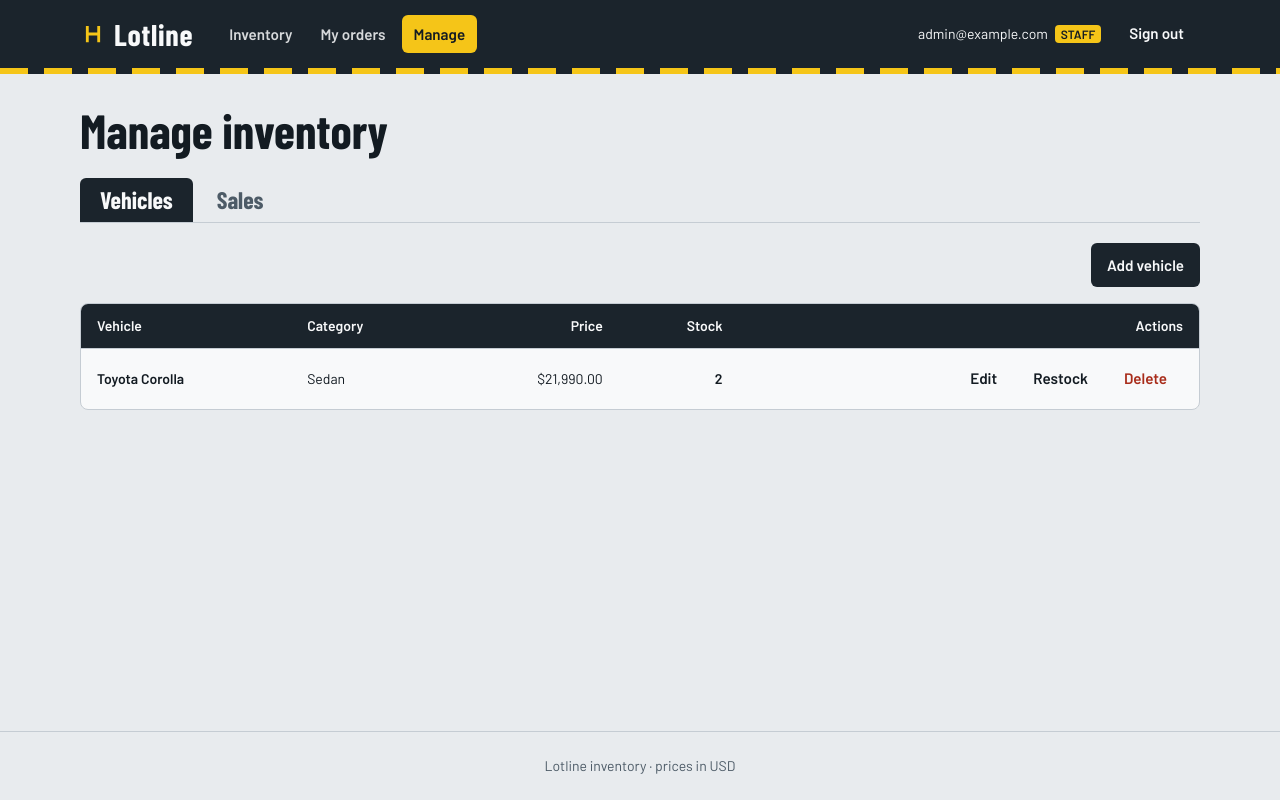
it: admin-only UI › restocks with validation and sends the quantity
Click the button with aria-label "Restock Toyota Corolla" at (1061, 379), box [1017,357,1104,401]
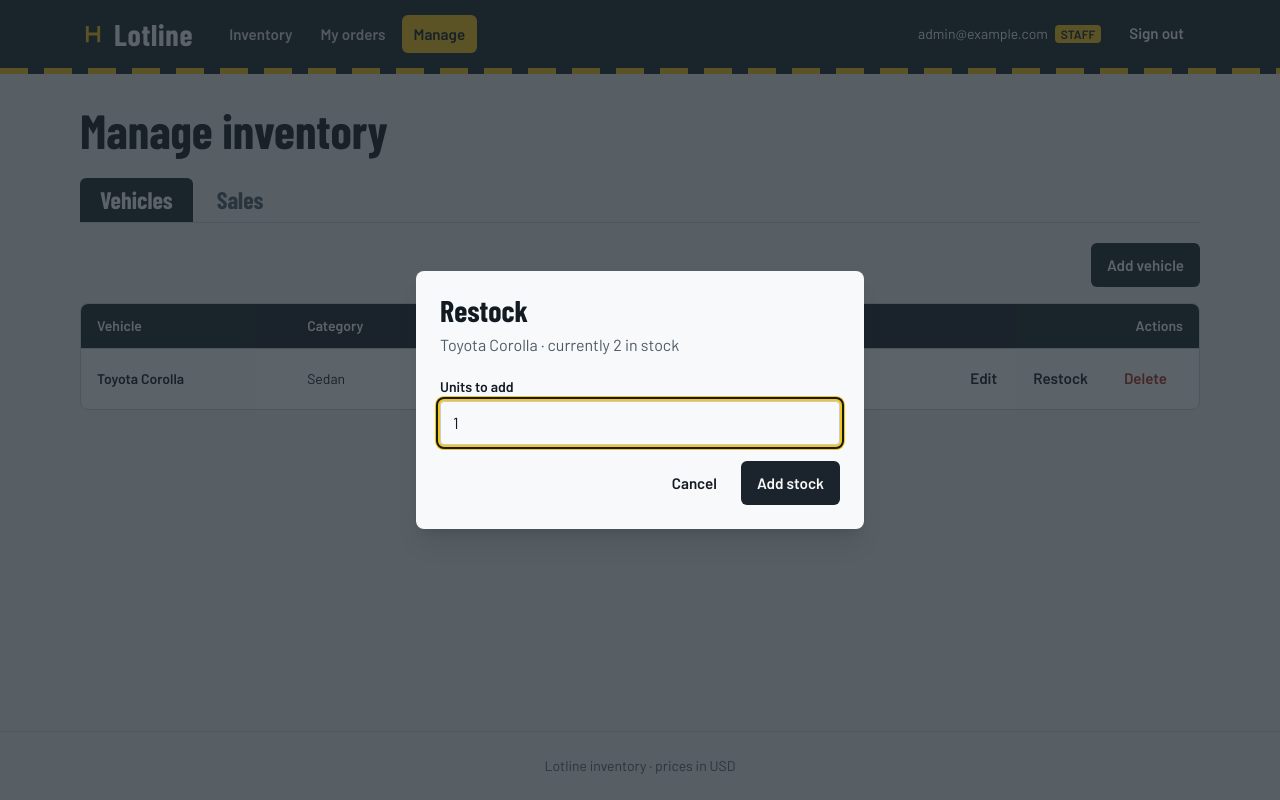
Replace the text in the field labelled "Units to add" with "0" at (640, 423), box [440,401,840,445]
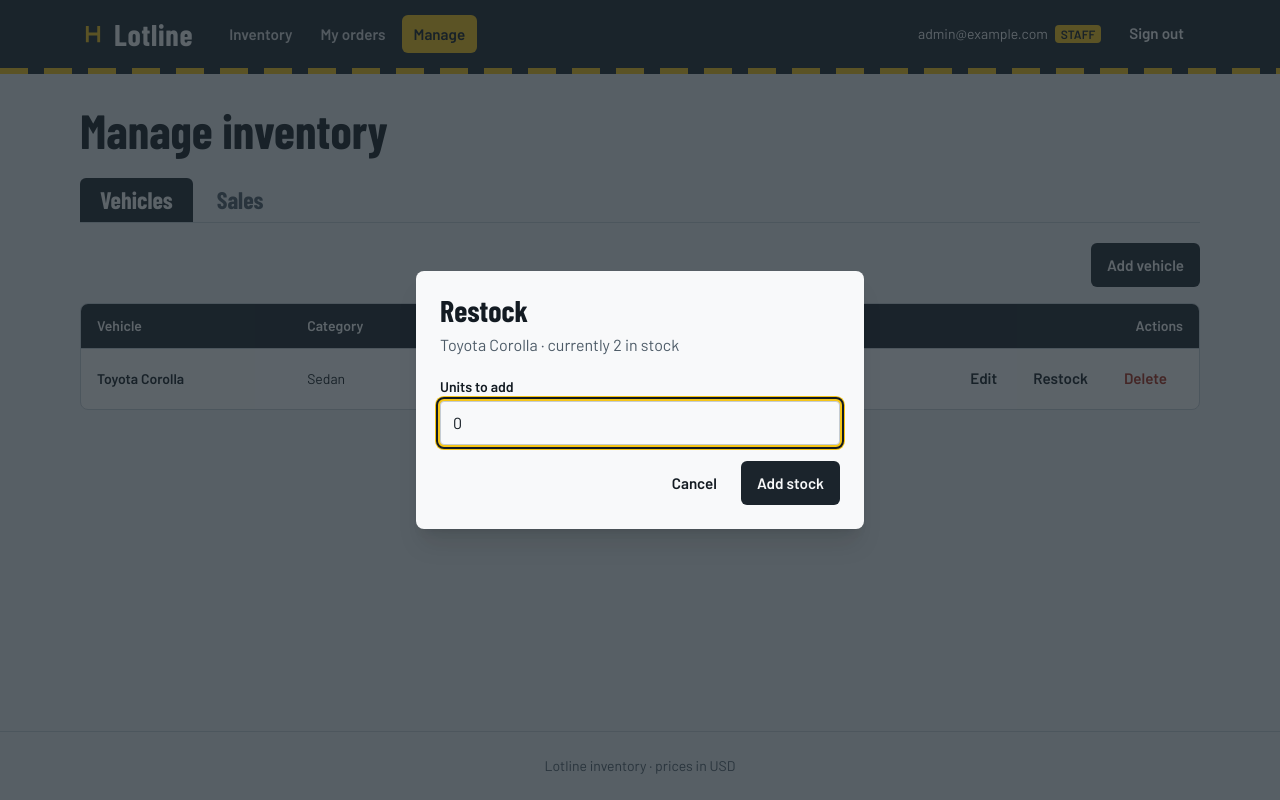
Click the button "Add stock" at (790, 483), box [741,461,840,505]
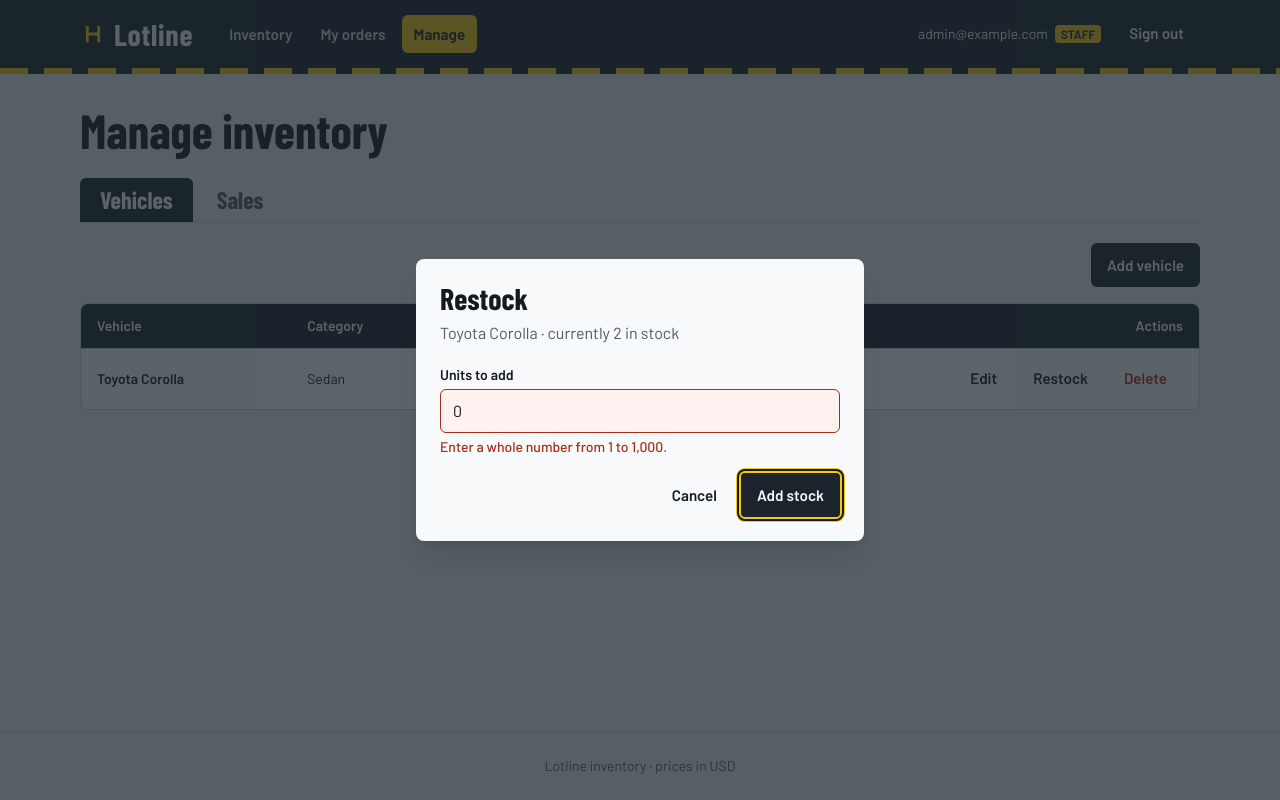
Now the text "Enter a whole number from 1 to 1,000." is shown, box [440,438,667,455]
Replace the text in the field labelled "Units to add" with "10" at (640, 411), box [440,389,840,433]
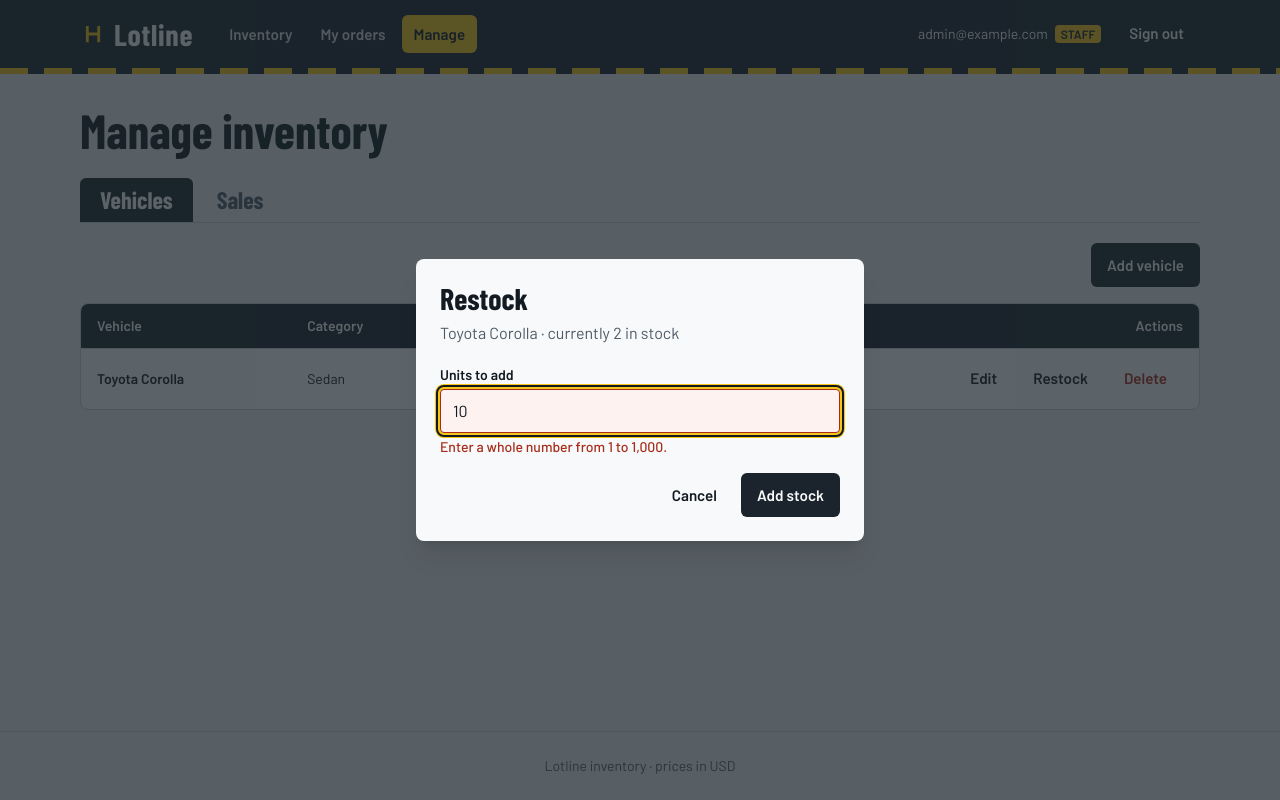
Click the button "Add stock" at (790, 495), box [741,473,840,517]
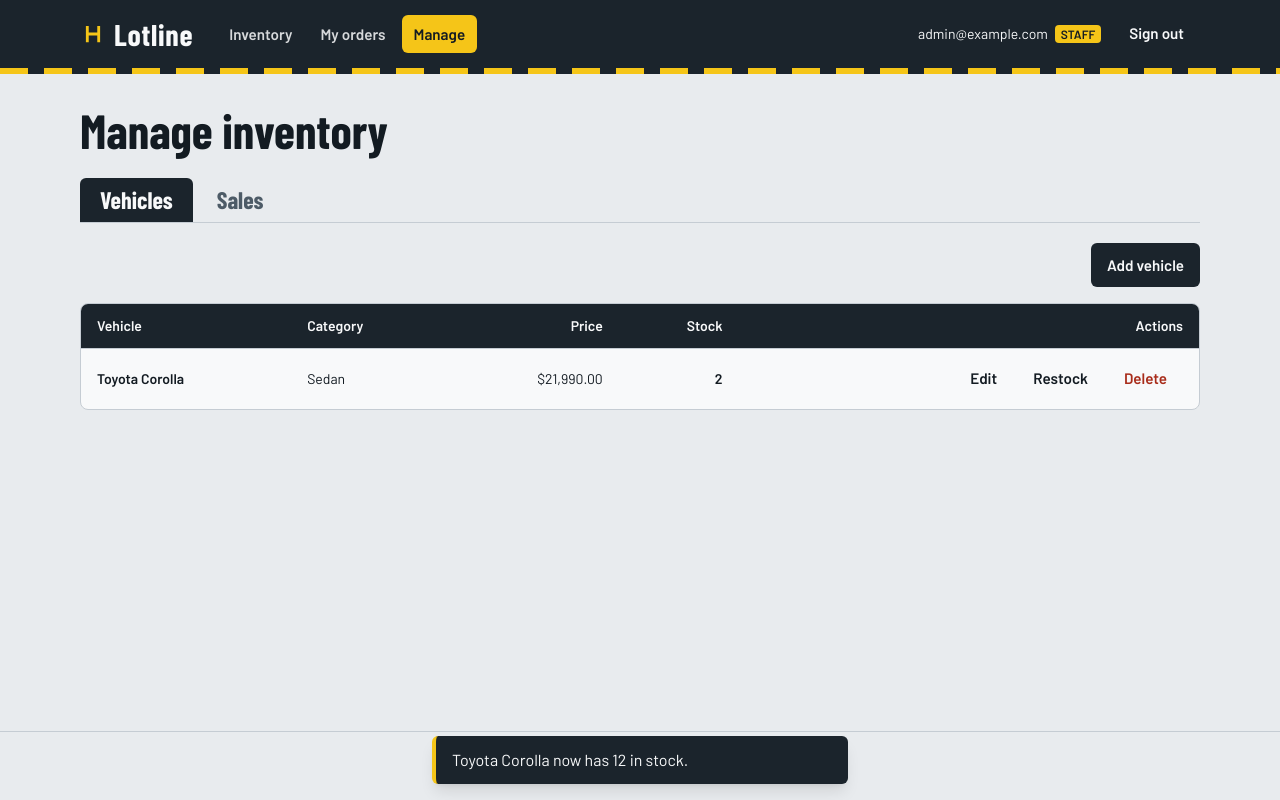
Now the text "Toyota Corolla now has 12 in stock." is shown, box [432,736,848,784]
